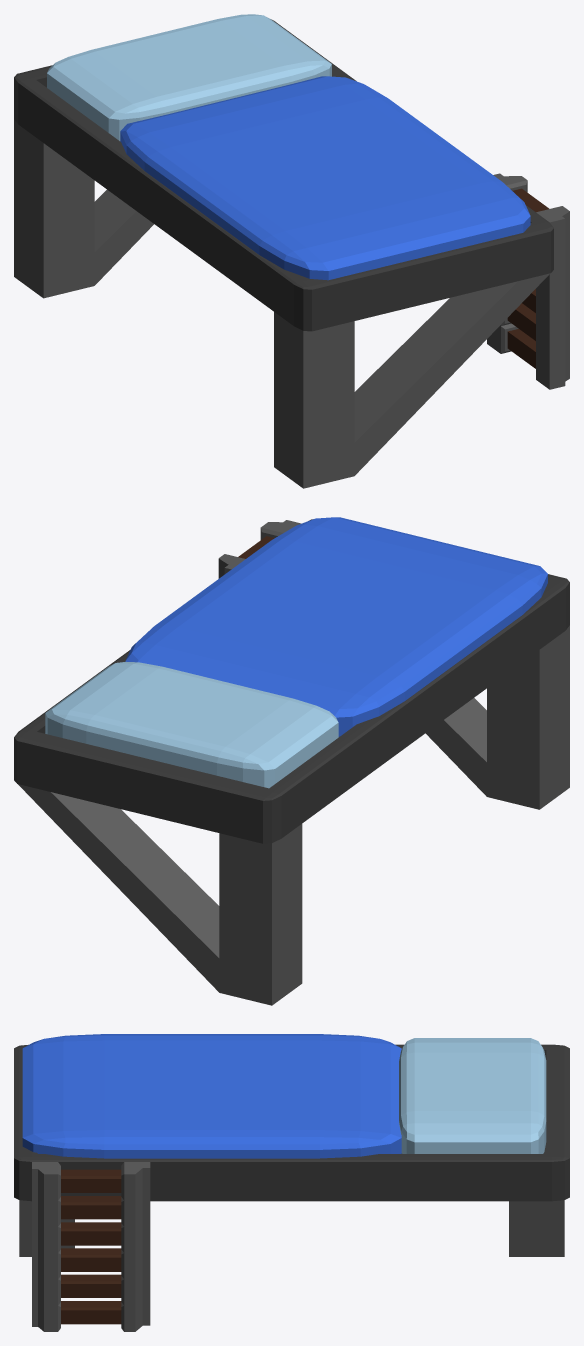
Rendered from bed.fbx.
The picture shows the model from 3 angles, top to bottom: view 1: azimuth 30°, elevation 25°; view 2: azimuth 150°, elevation 25°; view 3: azimuth 270°, elevation 25°; orthographic projection. The views are drawn at different scales.
Visible parts, largest first — view 1: Cube.002, Cube.003, Cube, Cube.001, Cube.004; view 2: Cube.002, Cube.003, Cube, Cube.001, Cube.004; view 3: Cube.002, Cube, Cube.004, Cube.001, Cube.003.
Boxes of the visible parts, bbox=[...] form: Cube.002: bbox=[120, 76, 530, 280]; Cube.003: bbox=[14, 119, 549, 488]; Cube: bbox=[14, 19, 553, 331]; Cube.001: bbox=[47, 14, 331, 140]; Cube.004: bbox=[487, 173, 569, 389]; Cube.002: bbox=[125, 517, 547, 736]; Cube.003: bbox=[18, 625, 569, 1005]; Cube: bbox=[14, 519, 569, 843]; Cube.001: bbox=[45, 662, 338, 788]; Cube.004: bbox=[218, 520, 300, 578]; Cube.002: bbox=[22, 1034, 401, 1158]; Cube: bbox=[14, 1044, 569, 1201]; Cube.004: bbox=[32, 1162, 150, 1331]; Cube.001: bbox=[399, 1038, 546, 1153]; Cube.003: bbox=[19, 1200, 564, 1256].
Bounding box in the file's own units: 221 × 167 × 400.
